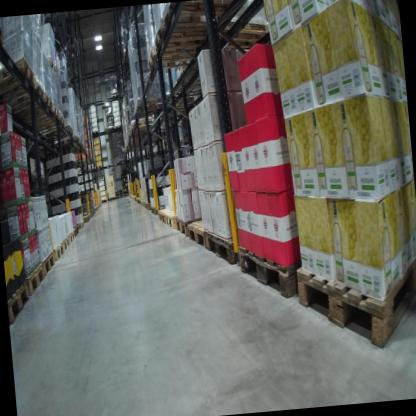pallet: (295, 242, 416, 353), (235, 236, 303, 308), (151, 13, 225, 56), (158, 0, 245, 32), (145, 41, 218, 73), (0, 53, 40, 109), (215, 15, 272, 50), (204, 224, 240, 268), (16, 91, 55, 129), (6, 275, 36, 324), (6, 83, 47, 117), (132, 96, 177, 117), (25, 259, 48, 299), (188, 216, 210, 255), (36, 113, 67, 138), (30, 106, 61, 130), (40, 248, 60, 282), (176, 214, 202, 240), (43, 125, 74, 146), (130, 119, 160, 133), (164, 208, 179, 234), (52, 241, 67, 266), (158, 207, 173, 228), (0, 18, 8, 56), (149, 203, 167, 218), (66, 133, 81, 146), (62, 235, 71, 252), (51, 55, 59, 74), (76, 219, 86, 231), (69, 231, 76, 244), (74, 226, 80, 240), (90, 129, 99, 137), (145, 201, 153, 210), (116, 194, 124, 202), (111, 92, 120, 99), (84, 213, 91, 222), (114, 123, 122, 129), (124, 191, 131, 197), (108, 125, 114, 131)
